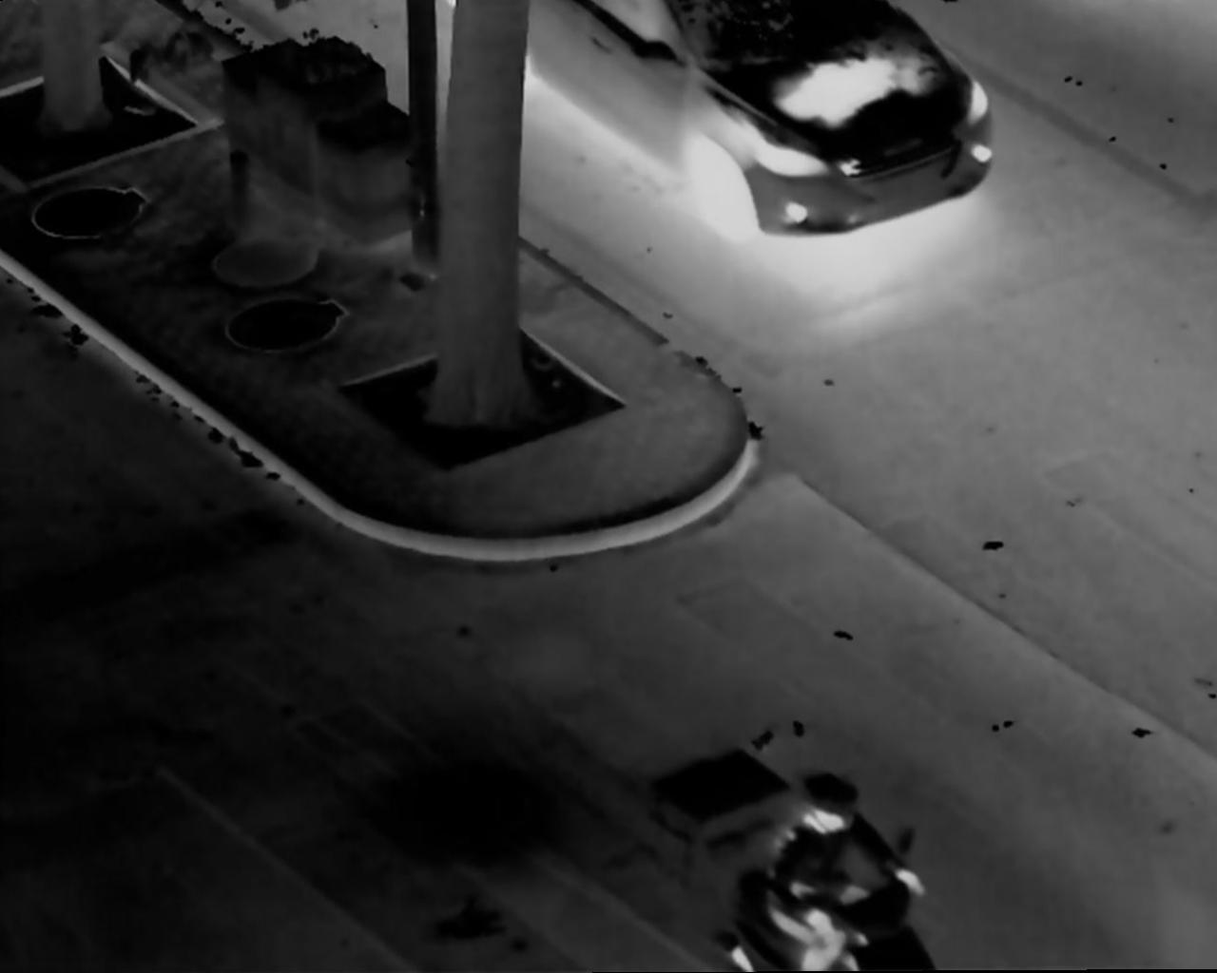person: (759, 771, 912, 973)
